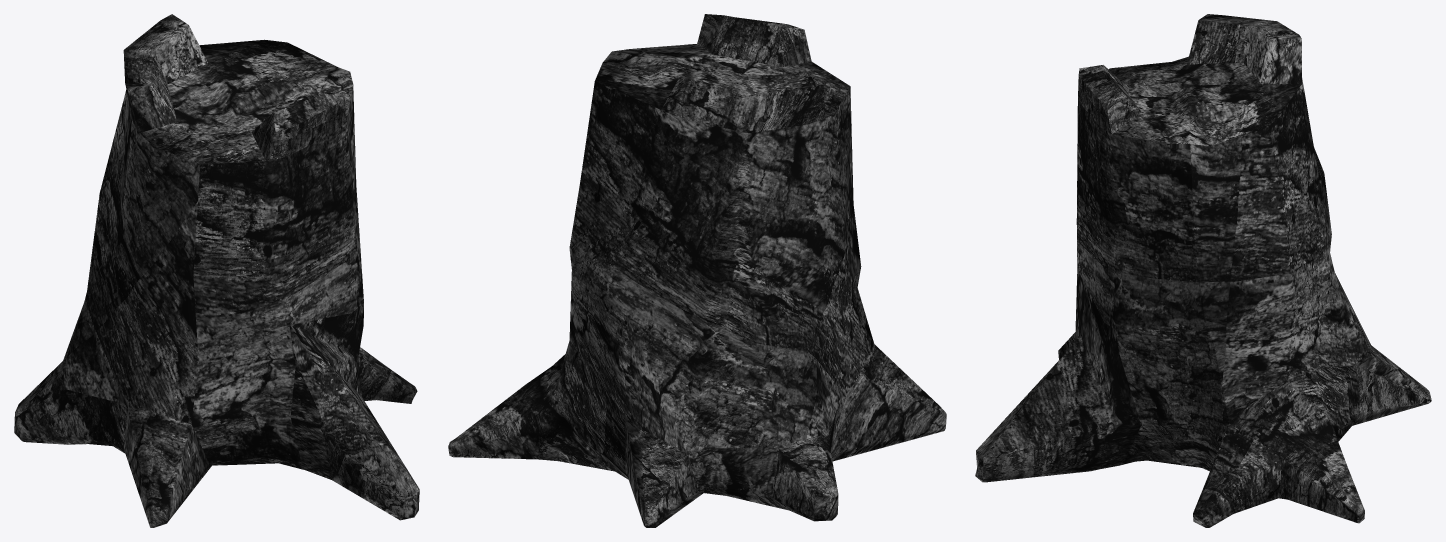
Rendered from DeadTreestump.fbx.
3 views of the same model, side by side, from view 1: azimuth 30°, elevation 25°; view 2: azimuth 150°, elevation 25°; view 3: azimuth 270°, elevation 25° (orthographic). The views are drawn at different scales.
Visible parts, largest first — view 1: DeadTreestump; view 2: DeadTreestump; view 3: DeadTreestump.
Boxes of the visible parts, x1,y1,x2,y2 form: DeadTreestump: (14, 14, 419, 527); DeadTreestump: (448, 14, 946, 527); DeadTreestump: (975, 14, 1431, 527).
Size of the model in its own units: 3.1 by 3.43 by 3.51.
